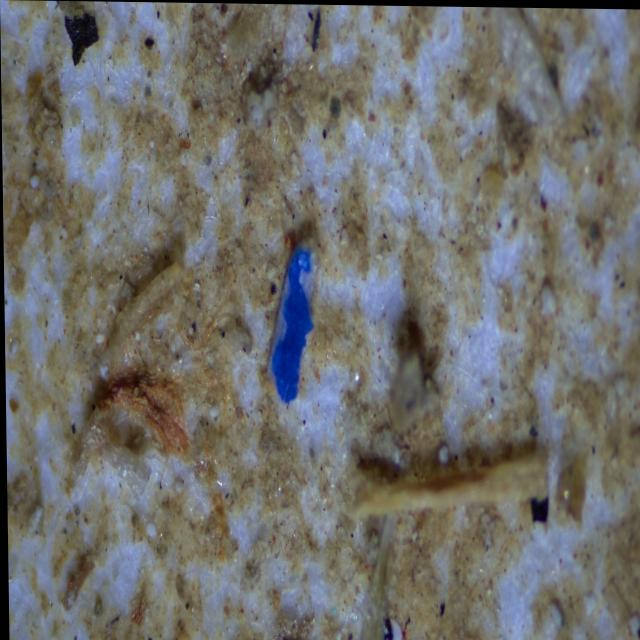microplastic: (254, 243, 333, 402)
